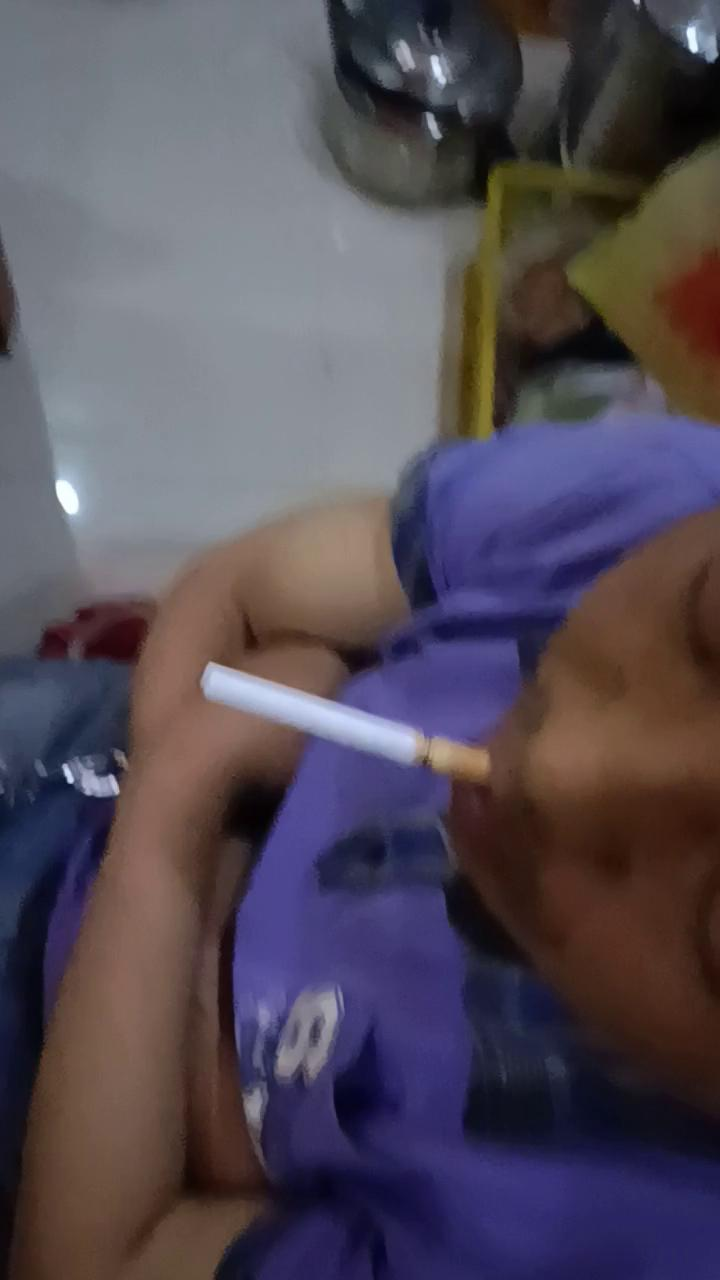smoke: (201, 660, 496, 792)
